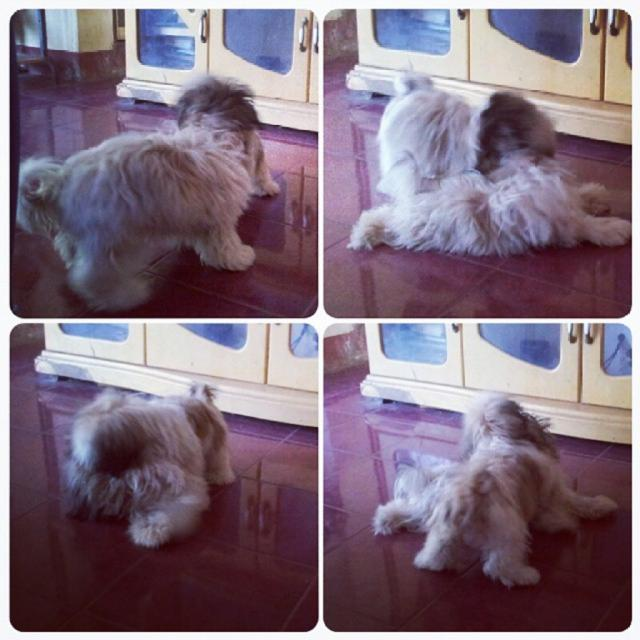Dog: (15, 75, 276, 306), (349, 64, 632, 255), (372, 398, 624, 586), (66, 381, 236, 546)
